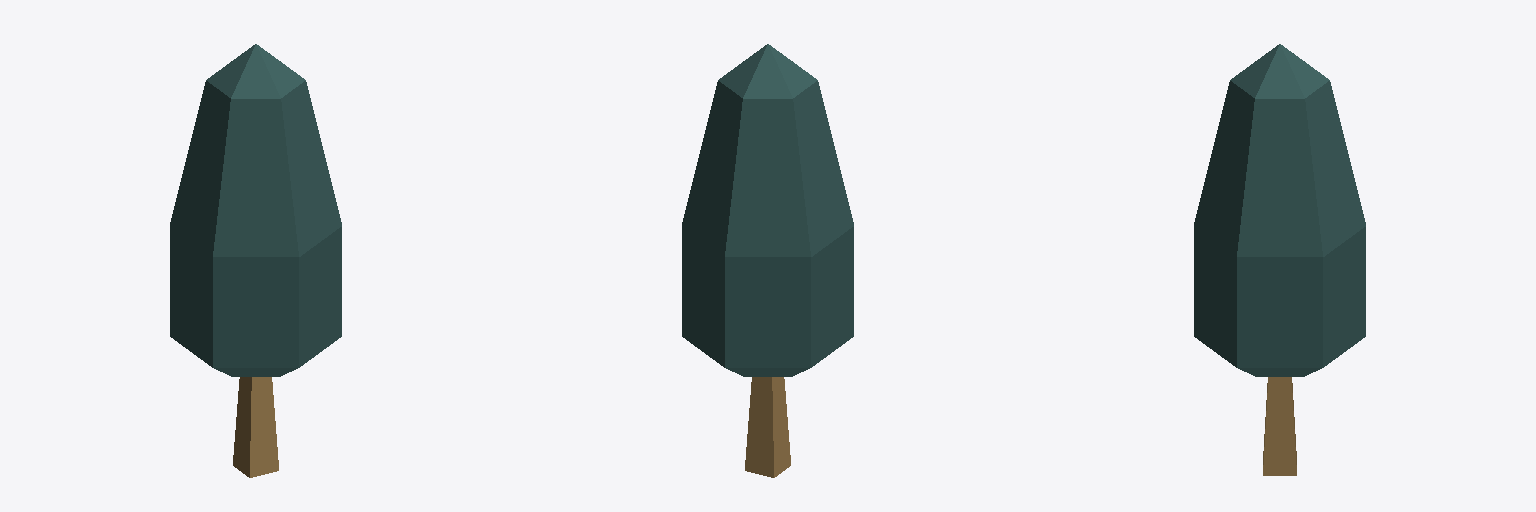
Rendered from tree.obj.
3 renders of one model, left to right at view 1: azimuth 30°, elevation 25°; view 2: azimuth 150°, elevation 25°; view 3: azimuth 270°, elevation 25°, orthographic.
Visible parts, largest first — view 1: Mesh1_Oak_Dark_Model; view 2: Mesh1_Oak_Dark_Model; view 3: Mesh1_Oak_Dark_Model.
Boxes of the visible parts, x1,y1,x2,y2 form: Mesh1_Oak_Dark_Model: [170, 44, 341, 477]; Mesh1_Oak_Dark_Model: [682, 44, 853, 477]; Mesh1_Oak_Dark_Model: [1194, 44, 1365, 475].
Size of the model in its own units: 1.58 by 4.93 by 1.82.